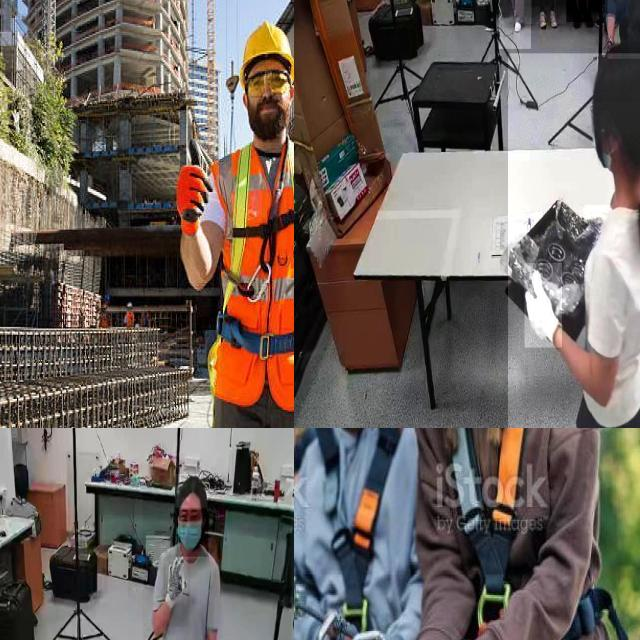Harness: (209, 138, 294, 428), (314, 428, 403, 609), (453, 428, 526, 640)
face_mask: (176, 509, 208, 556)
hand_glove: (524, 263, 562, 349), (162, 556, 190, 627)
head_nohelmet: (589, 41, 640, 103), (175, 474, 208, 509)
person: (508, 53, 640, 428), (143, 475, 222, 640), (607, 0, 640, 58), (498, 0, 531, 50)
shoes: (536, 8, 548, 34), (548, 9, 558, 32)
